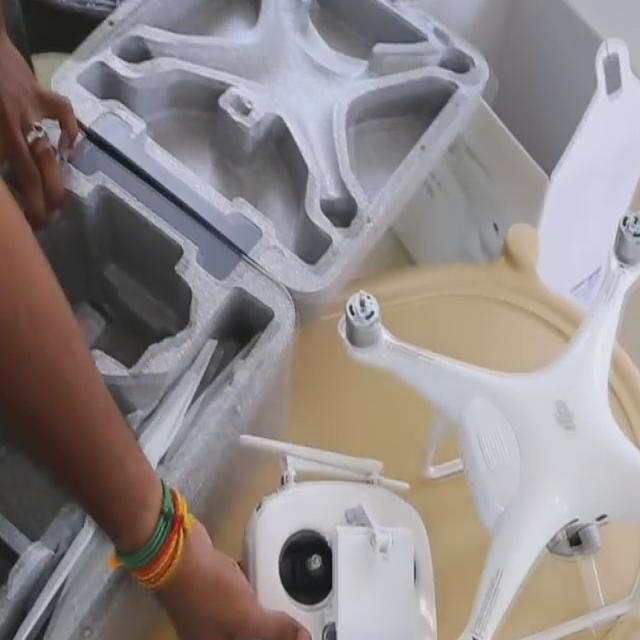drone: (322, 189, 640, 640)
